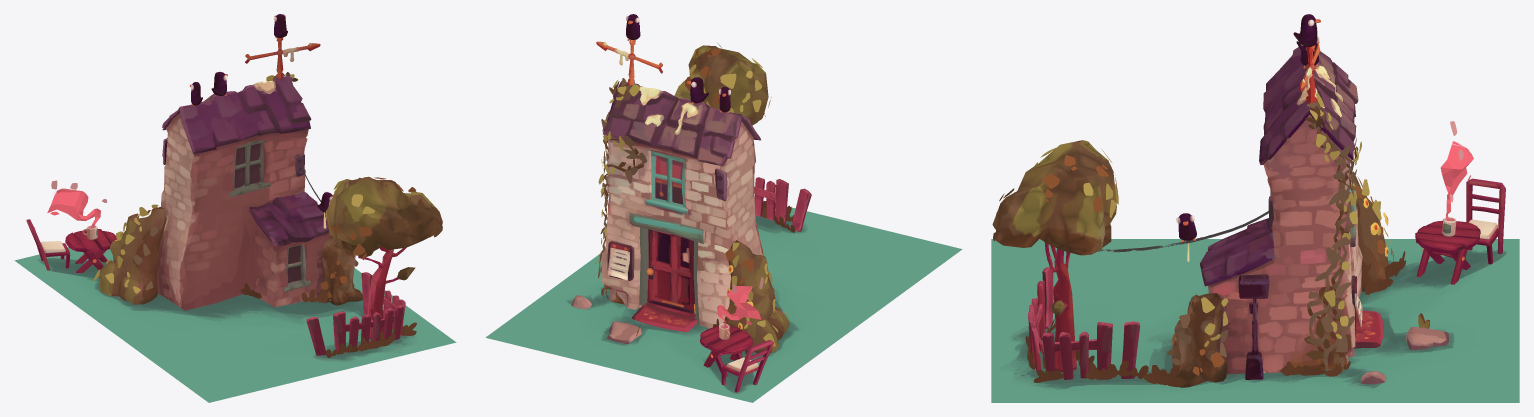
File: painterly_cottage.glb
The picture shows the model from 3 angles, left to right: view 1: azimuth 30°, elevation 25°; view 2: azimuth 150°, elevation 25°; view 3: azimuth 270°, elevation 25°; orthographic projection. The views are drawn at different scales.
Visible parts, largest first — view 1: polySurface55; view 2: polySurface55; view 3: polySurface55.
Boxes of the visible parts, left/top/right/bottom form: polySurface55: left=14, top=14, right=456, bottom=402; polySurface55: left=485, top=14, right=962, bottom=402; polySurface55: left=991, top=14, right=1519, bottom=402.
Size of the model in its own units: 2.32 by 2.32 by 3.14.
3 materials, 3 textured.
